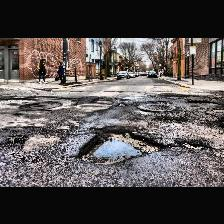pothole: (77, 124, 163, 164), (6, 134, 28, 146), (188, 98, 220, 106), (182, 141, 204, 149), (116, 102, 126, 106)
